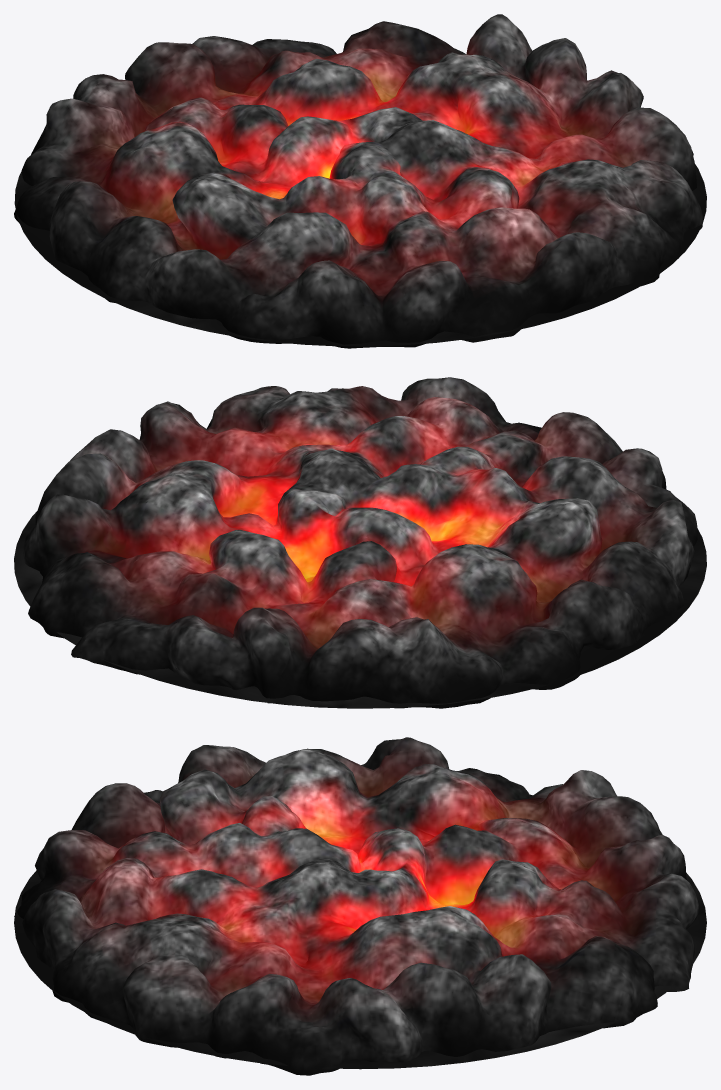
Rendered from coals.glb.
3 renders of one model, top to bottom at view 1: azimuth 30°, elevation 25°; view 2: azimuth 150°, elevation 25°; view 3: azimuth 270°, elevation 25°, orthographic.
Parts seen in each view (by area): view 1: HotCoals; view 2: HotCoals; view 3: HotCoals.
Part boxes in pixels (x1,y1,x2,y2): HotCoals: (14,14,706,348); HotCoals: (14,377,706,708); HotCoals: (14,737,706,1075).
Bounding box in the file's own units: 0.066 × 0.00923 × 0.0655.
1 material, 1 textured.
